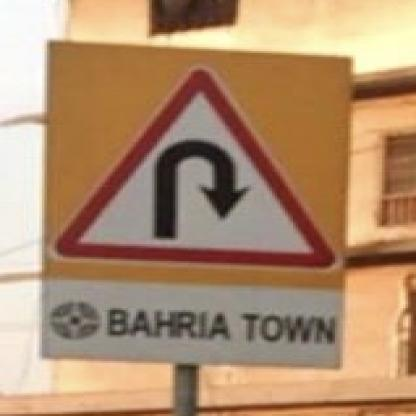U-Turn: (43, 41, 349, 287), (46, 64, 341, 273)
